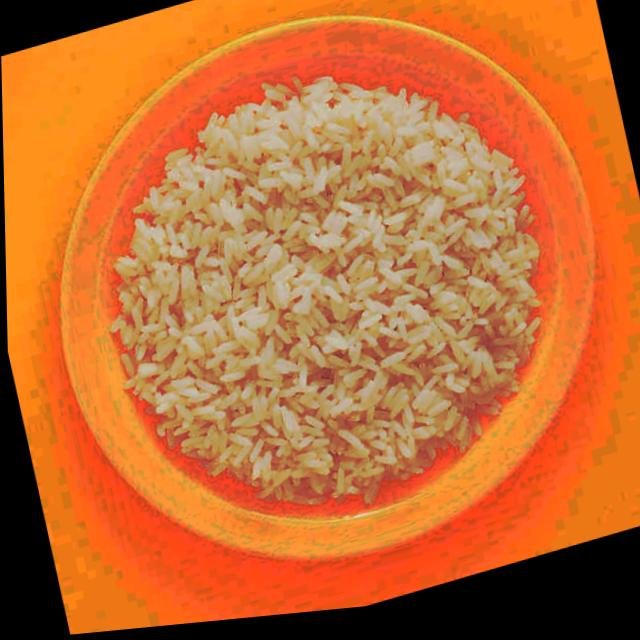rice: (67, 8, 587, 573)
